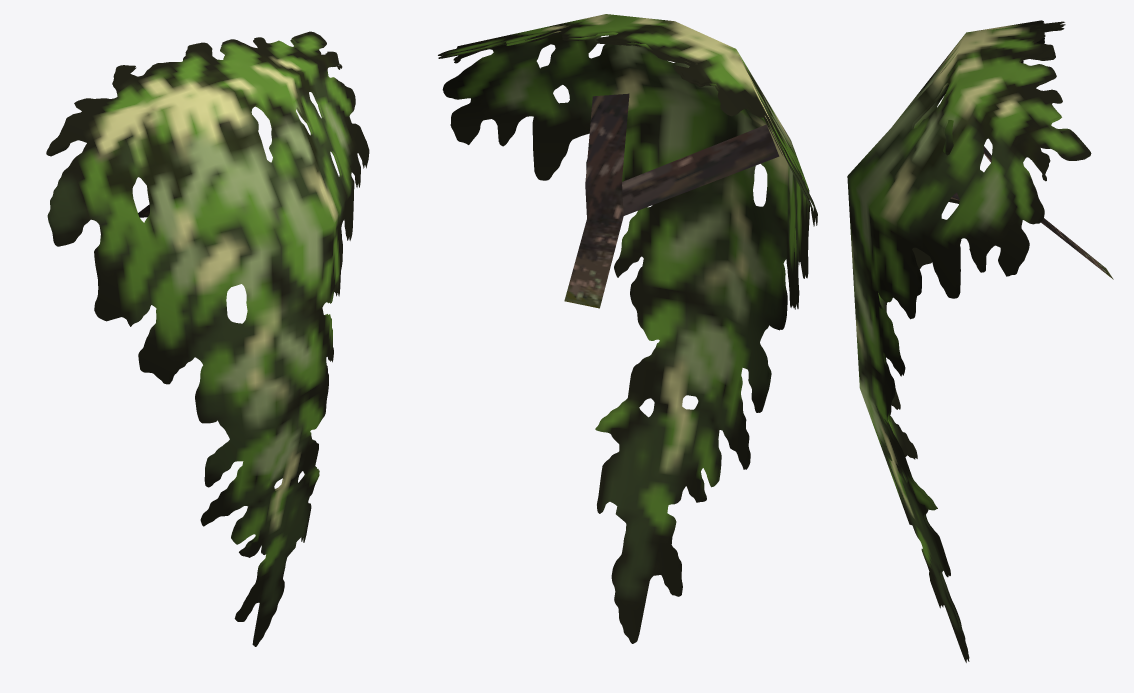
File: foriage02_ds.fbx
The picture shows the model from 3 angles, left to right: view 1: azimuth 30°, elevation 25°; view 2: azimuth 150°, elevation 25°; view 3: azimuth 270°, elevation 25°; orthographic projection. The views are drawn at different scales.
Parts seen in each view (by area): view 1: foriage02_ds; view 2: foriage02_ds; view 3: foriage02_ds.
Boxes of the visible parts, x1,y1,x2,y2 form: foriage02_ds: (46,31,369,646); foriage02_ds: (438,14,817,643); foriage02_ds: (847,20,1113,662).
Size of the model in its own units: 1.29 by 2.2 by 0.8526.
